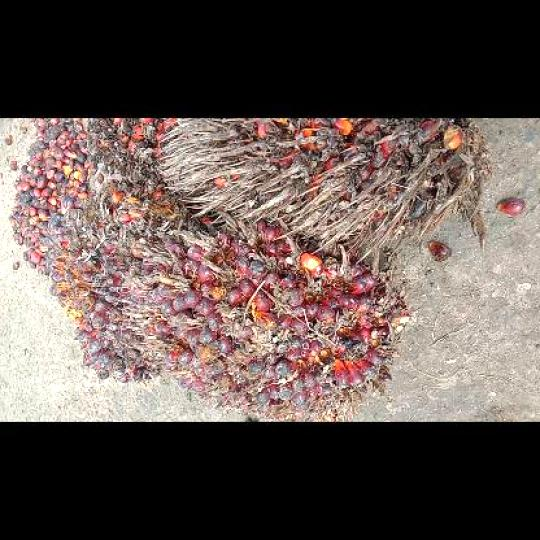masak: (122, 220, 408, 421), (44, 184, 218, 382)
terlalu masak: (156, 118, 485, 261), (86, 118, 176, 181)
